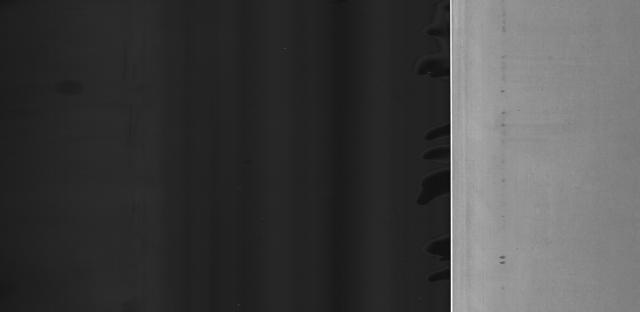oil_spot: (497, 2, 517, 138), (493, 251, 510, 271)
